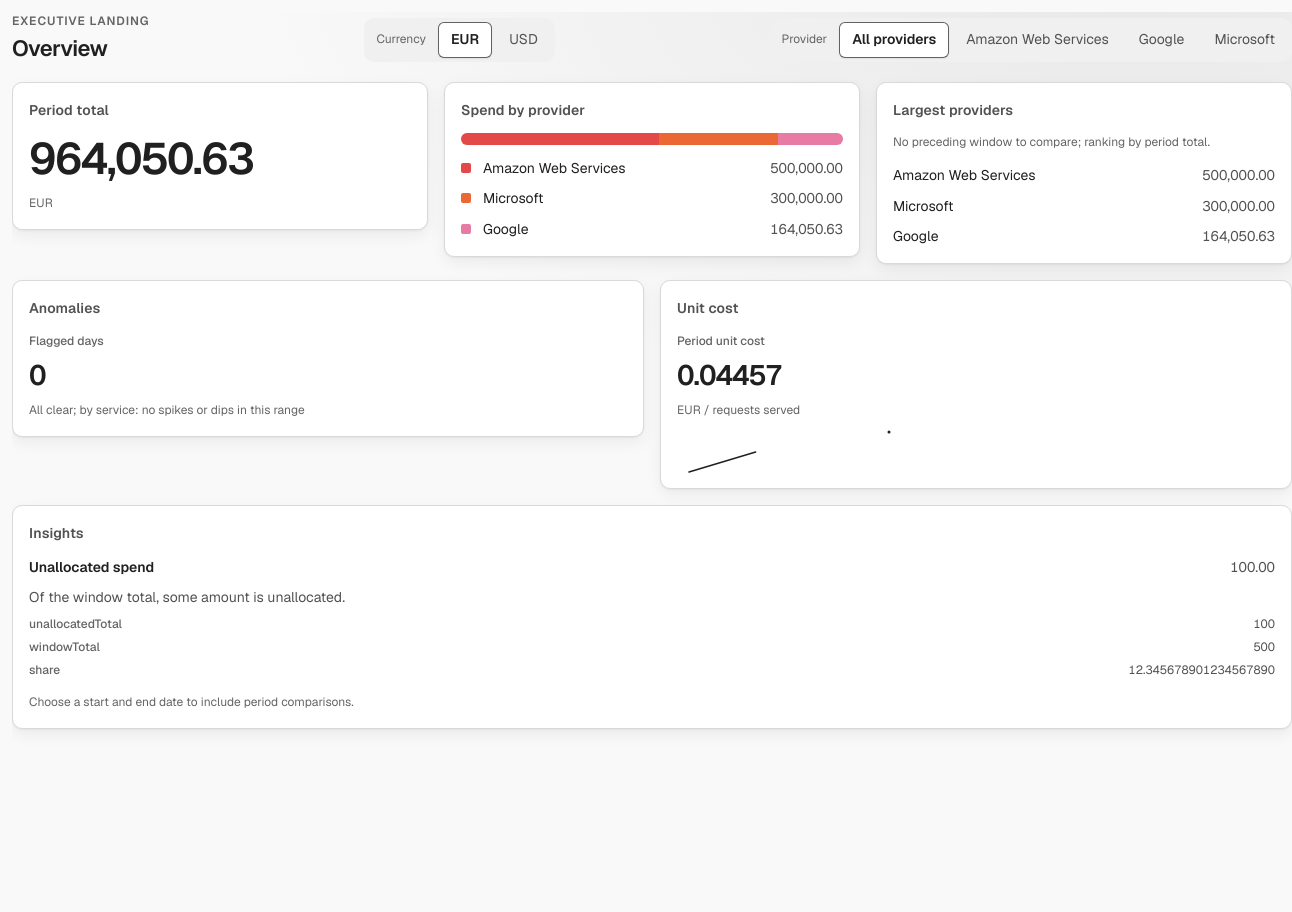
Test: Overview › reconciles a dropped selection against currencies, not the echoed currency
The image size is (1292, 912).
expect the element "Currency" is shown: met, box [364, 18, 555, 62]
Click the button "USD" at [523, 40], box [496, 22, 551, 58]
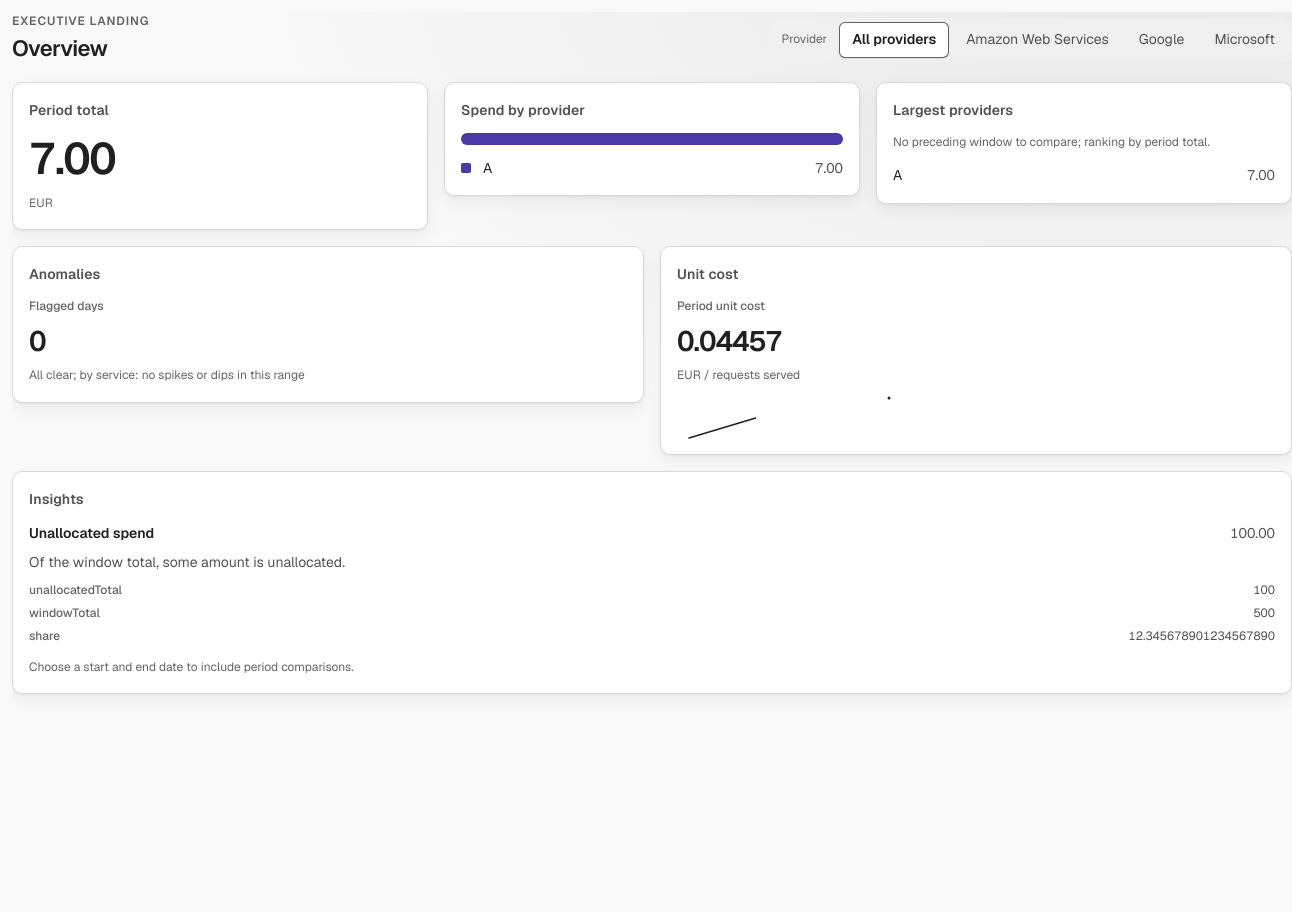
expect the 1st text "7.00" is shown: met, box [29, 130, 115, 187]
expect the text "Currency" is gone: met
